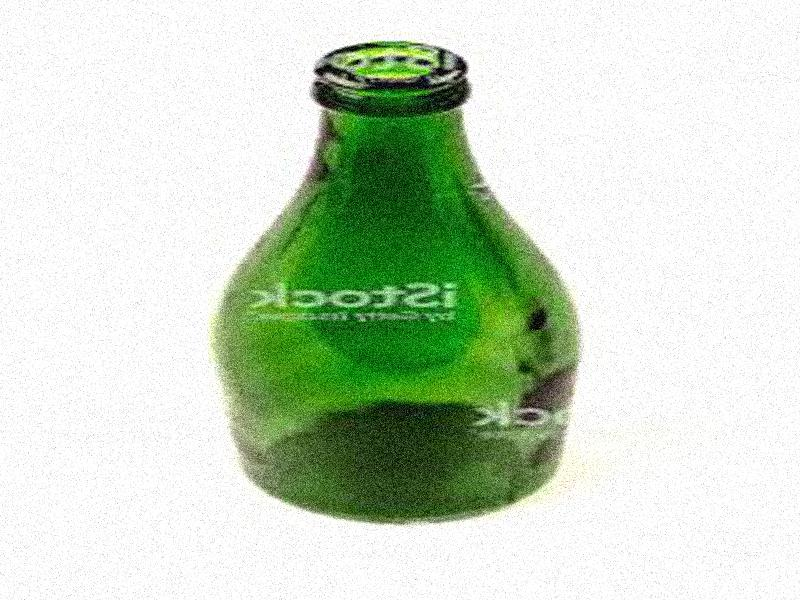Beer: (212, 39, 582, 524)
